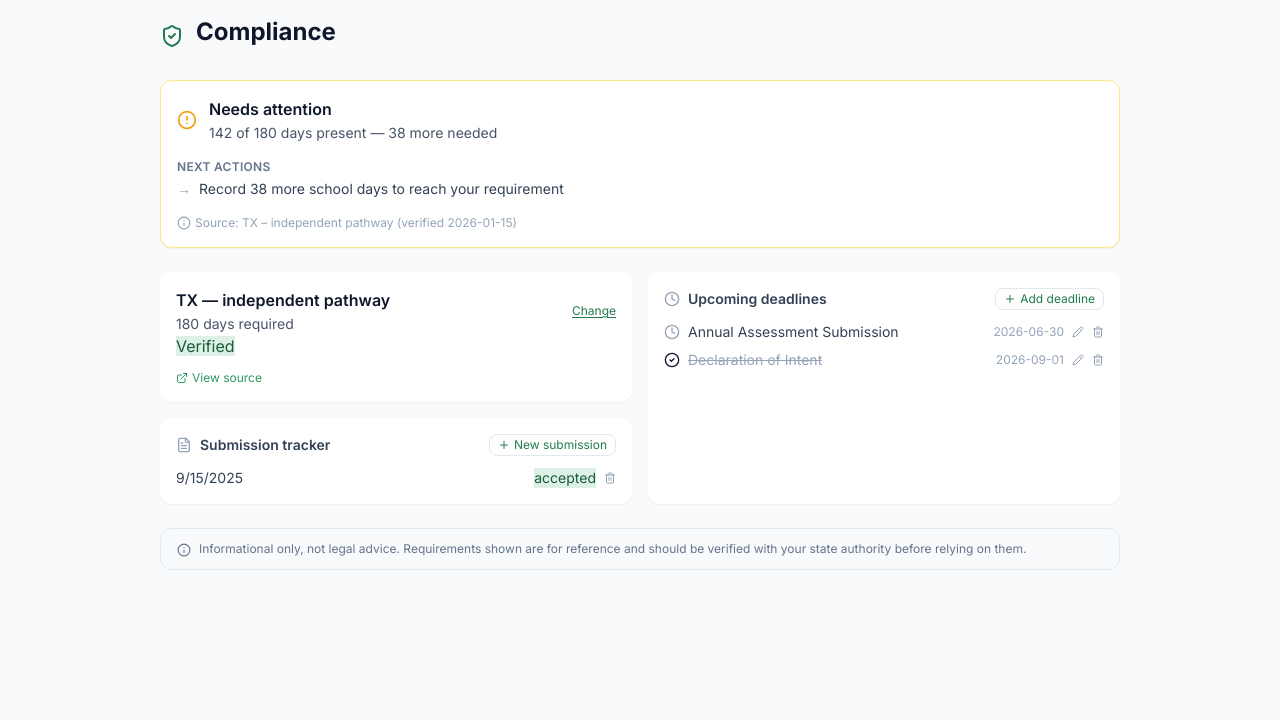
Test: CompliancePage › adds a deadline via the collapsible add-form
Click the button with test id "add-deadline-toggle" at (1050, 299), box [995,288,1104,310]
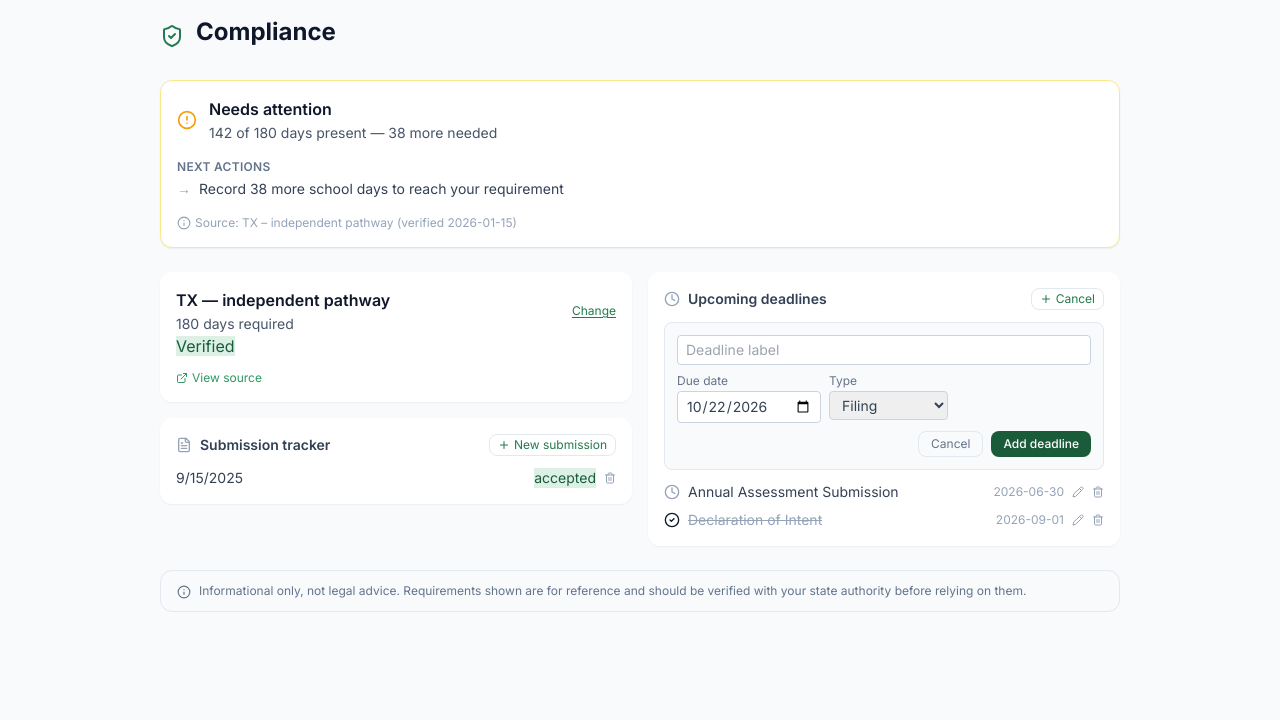
Check: the element with test id "add-deadline-form" is shown, box [664,322,1104,470]
Type "New filing" into the field labelled "Deadline label" at (884, 350), box [677,335,1091,365]
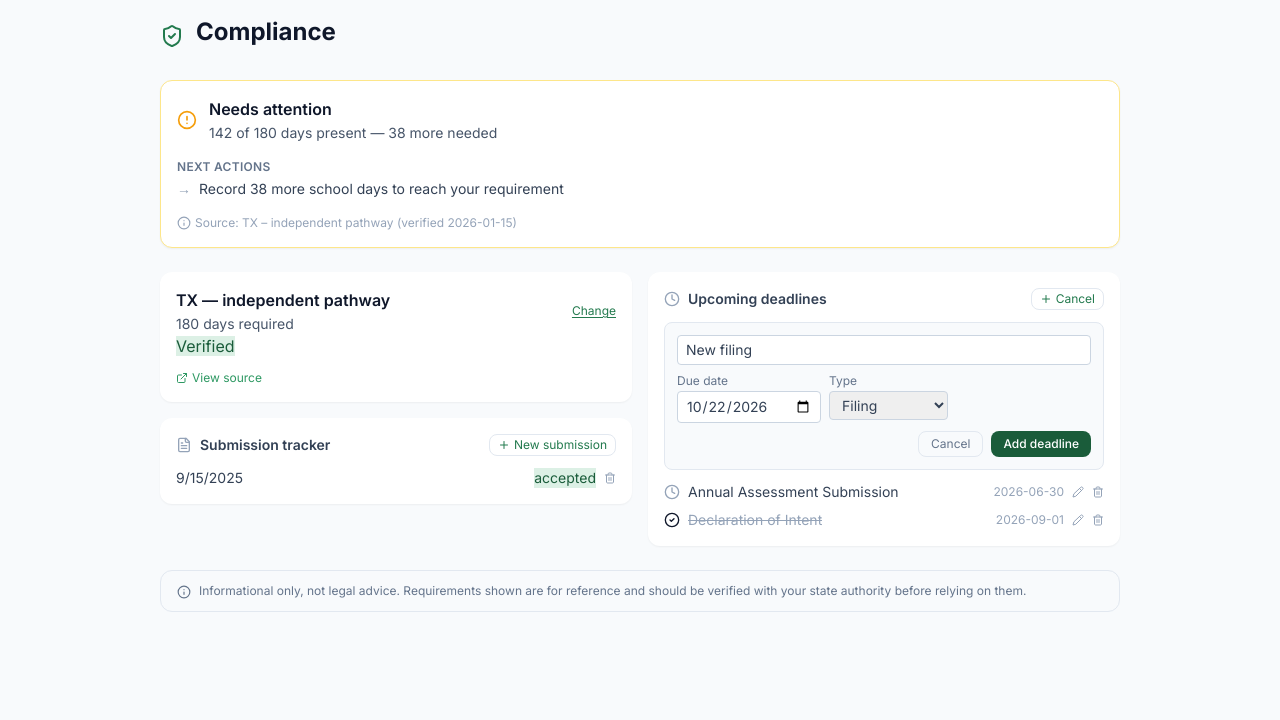
Click the button "Add deadline" at (1041, 444), box [991,431,1091,457]
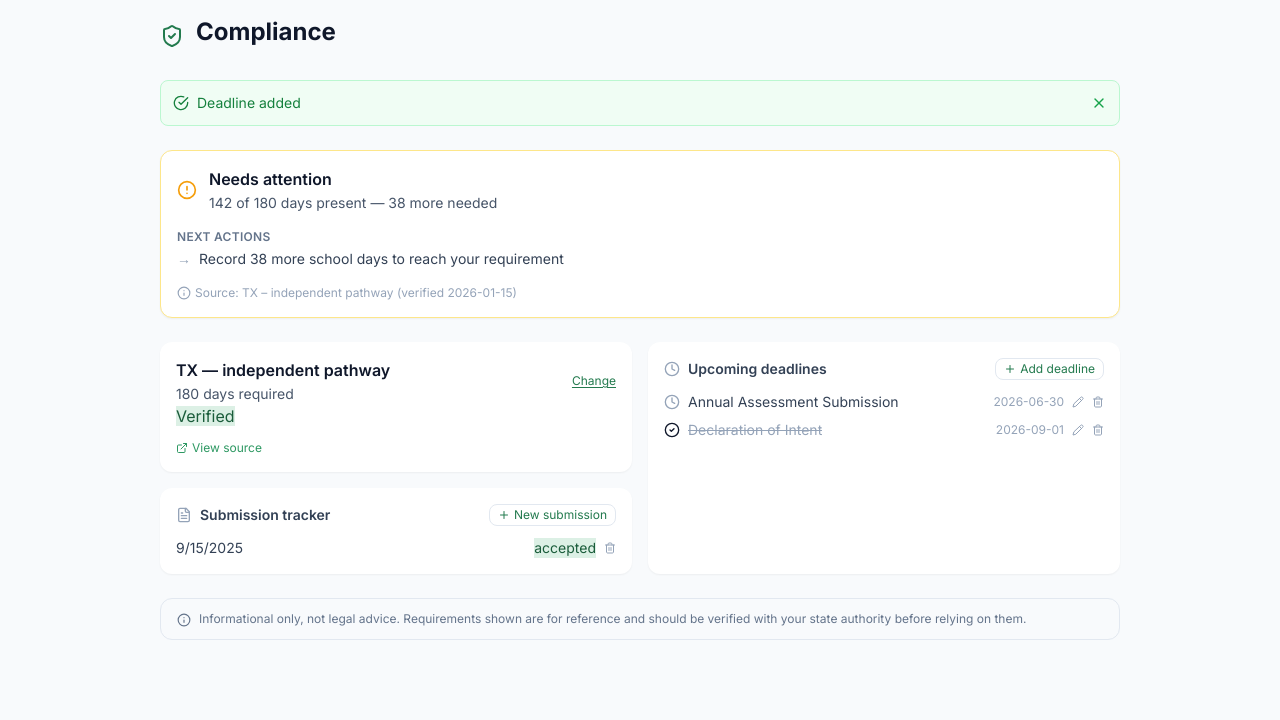
Check: the text "Deadline added" is shown, box [197,93,301,113]
